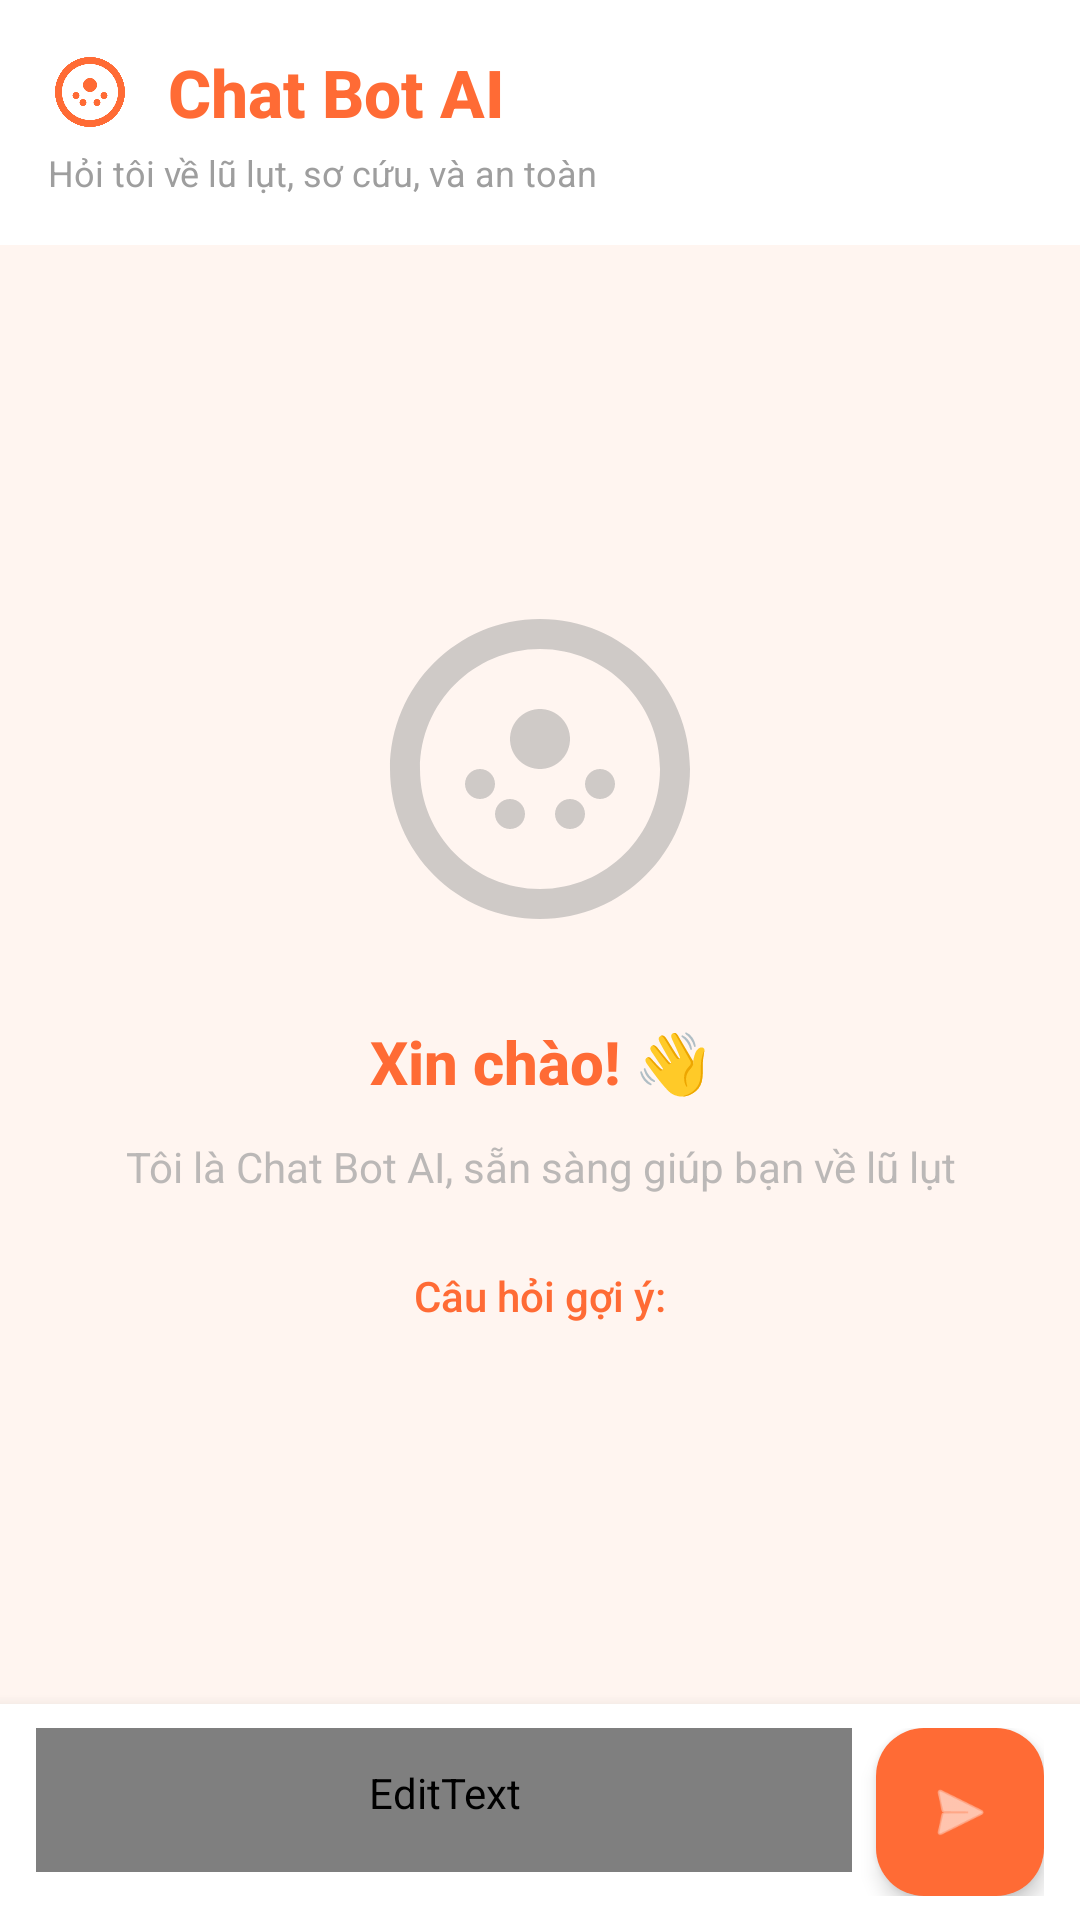

Icon bounding boxes for this 1080px x 1920px phone screenshot, format (x1, y1, x2, y2):
ai assistant: (55, 57, 125, 127), (390, 619, 690, 919)
Gửi tin nhắn: (876, 1728, 1044, 1896)
